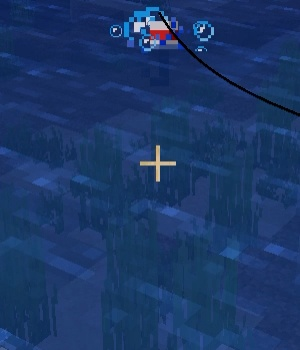up: (135, 6, 184, 89)
